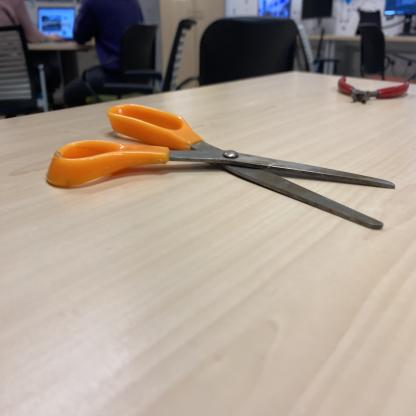scissors: (45, 102, 397, 231)
